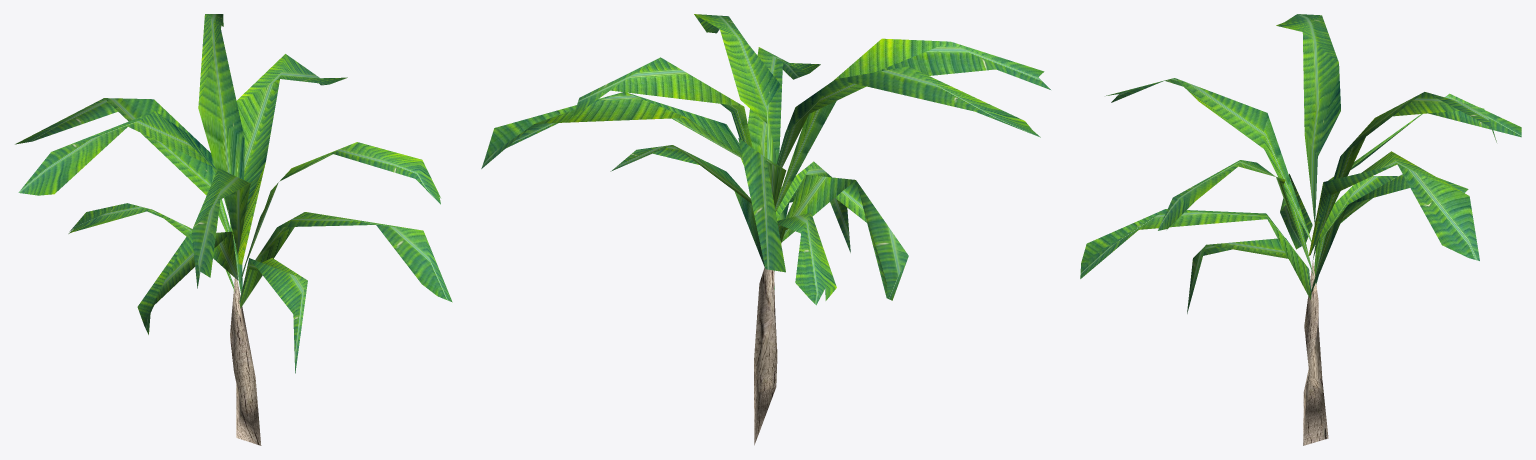
The model's file is Palm_lod_100.obj.
3 views of the same model, side by side, from view 1: azimuth 30°, elevation 25°; view 2: azimuth 150°, elevation 25°; view 3: azimuth 270°, elevation 25° (orthographic). The views are drawn at different scales.
Bounding box in the file's own units: 34.1 × 29.69 × 32.6.
